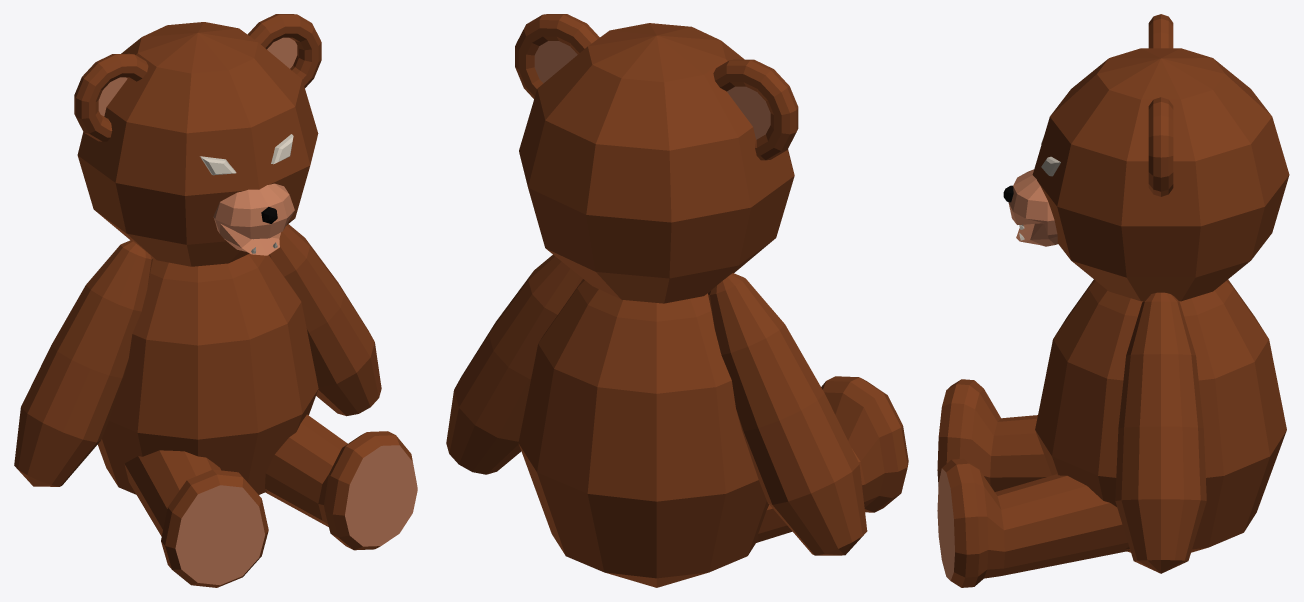
The model's file is OrsachiottoCattivo.fbx.
The picture shows the model from 3 angles, left to right: view 1: azimuth 30°, elevation 25°; view 2: azimuth 150°, elevation 25°; view 3: azimuth 270°, elevation 25°; orthographic projection. The views are drawn at different scales.
Visible parts, largest first — view 1: Muso2.002; view 2: Muso2.002; view 3: Muso2.002.
Part boxes in pixels (<box>): Muso2.002: <box>14,14,417,587</box>; Muso2.002: <box>446,14,908,587</box>; Muso2.002: <box>937,14,1289,587</box>.
Bounding box in the file's own units: 47.96 × 61.42 × 38.94.
